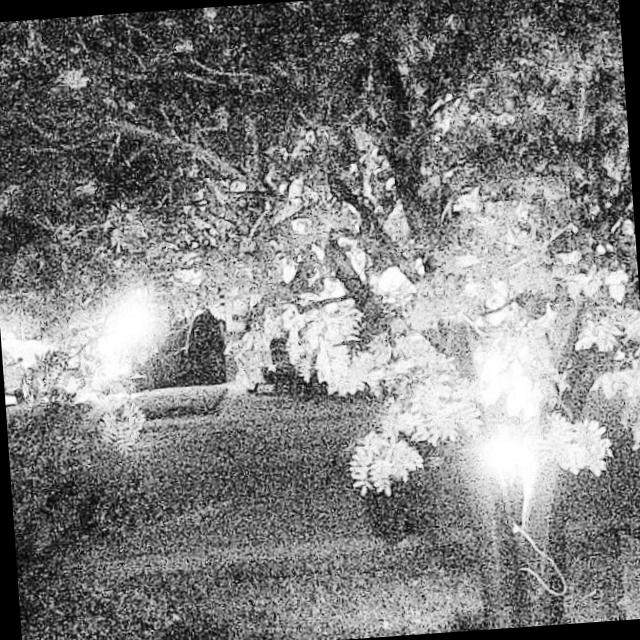Tree: (262, 0, 640, 640)
